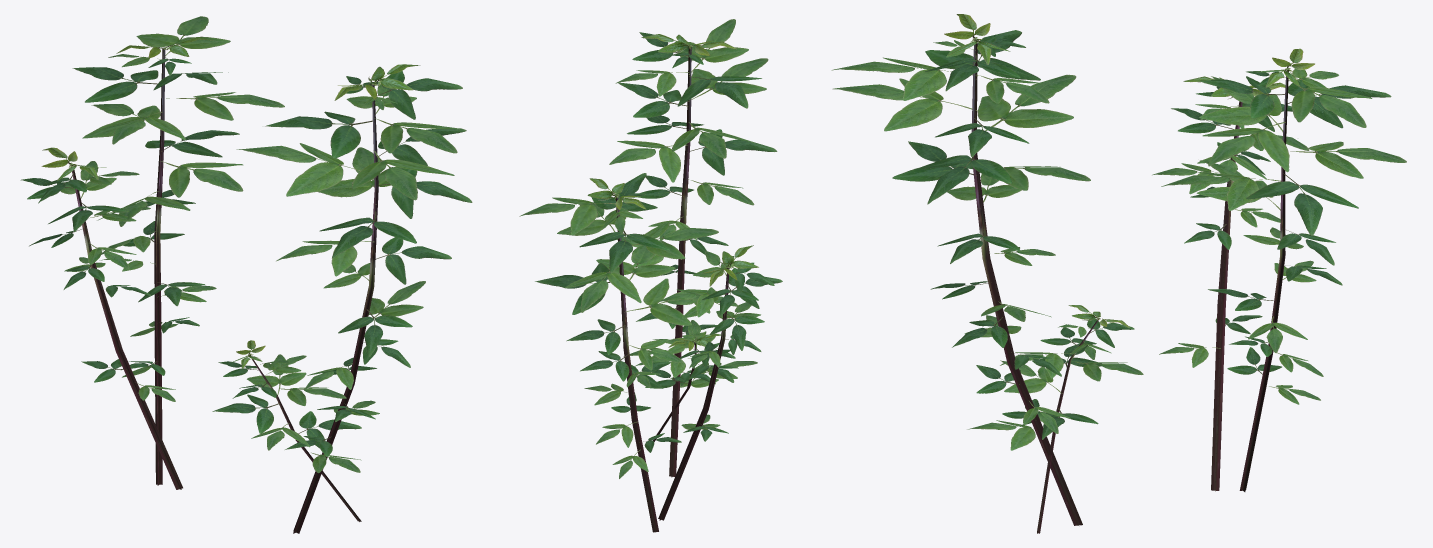
File: m_grass_33_3.fbx
3 views of the same model, side by side, from view 1: azimuth 30°, elevation 25°; view 2: azimuth 150°, elevation 25°; view 3: azimuth 270°, elevation 25° (orthographic). The views are drawn at different scales.
Parts seen in each view (by area): view 1: mesh_grass_33_3_LOD0; view 2: mesh_grass_33_3_LOD0; view 3: mesh_grass_33_3_LOD0.
Boxes of the visible parts, <box> form: mesh_grass_33_3_LOD0: <box>20,16,472,533</box>; mesh_grass_33_3_LOD0: <box>519,19,782,532</box>; mesh_grass_33_3_LOD0: <box>831,14,1406,533</box>.
Size of what is drawn, in the model's own units: 35.98 by 51.68 by 55.43.
